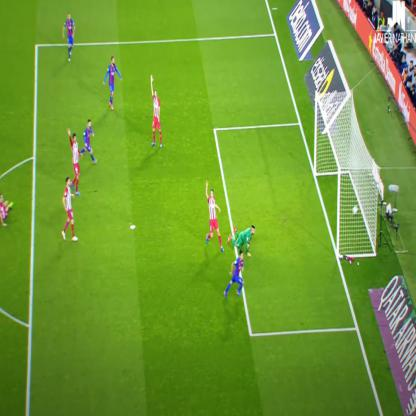goal: (302, 109, 391, 286)
